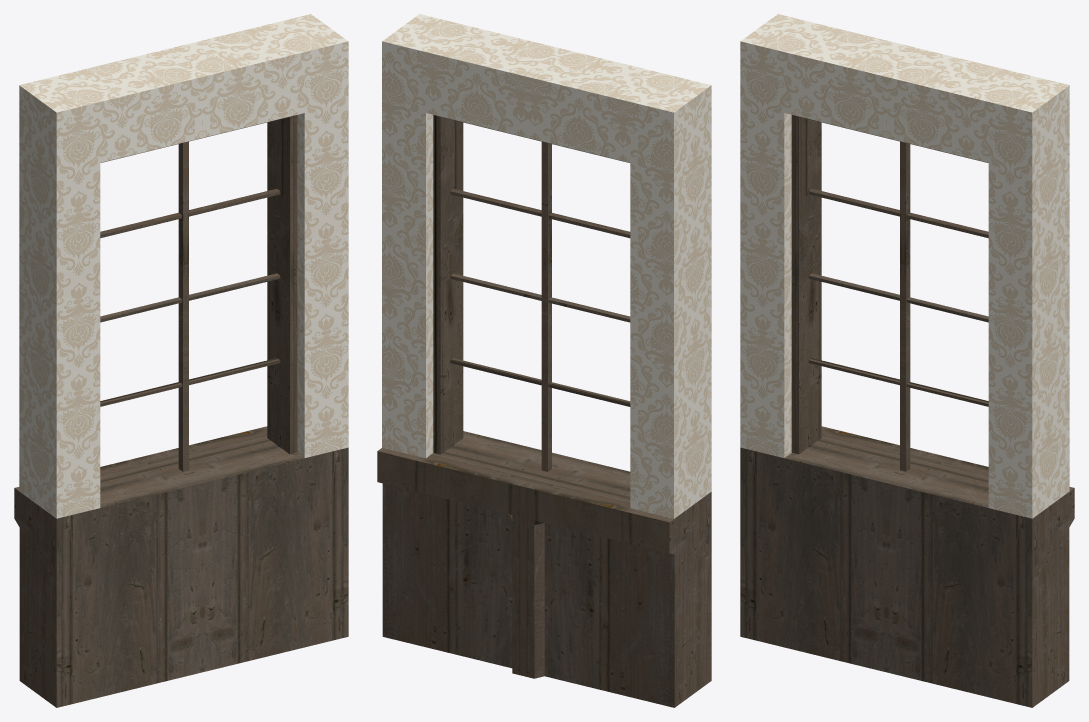
Rendered from window.glb.
The picture shows the model from 3 angles, left to right: view 1: azimuth 30°, elevation 25°; view 2: azimuth 150°, elevation 25°; view 3: azimuth 330°, elevation 25°; orthographic projection.
Parts seen in each view (by area): view 1: plank; view 2: plank; view 3: plank.
Part boxes in pixels (x1,y1,x2,y2): plank: (14, 14, 348, 707); plank: (377, 14, 711, 707); plank: (740, 14, 1074, 707).
Bounding box in the file's own units: 2 × 3.9 × 0.5.
3 materials, 3 textured.
